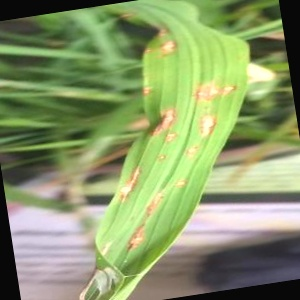Brown_Spot: (111, 155, 150, 198), (140, 102, 185, 139), (110, 221, 156, 256), (129, 192, 178, 222), (191, 78, 239, 101), (191, 109, 220, 139), (150, 18, 178, 44), (155, 31, 180, 58), (180, 138, 204, 165), (136, 40, 160, 63), (133, 79, 157, 101), (150, 148, 172, 168), (162, 129, 185, 148), (167, 174, 189, 192), (120, 5, 140, 22)
